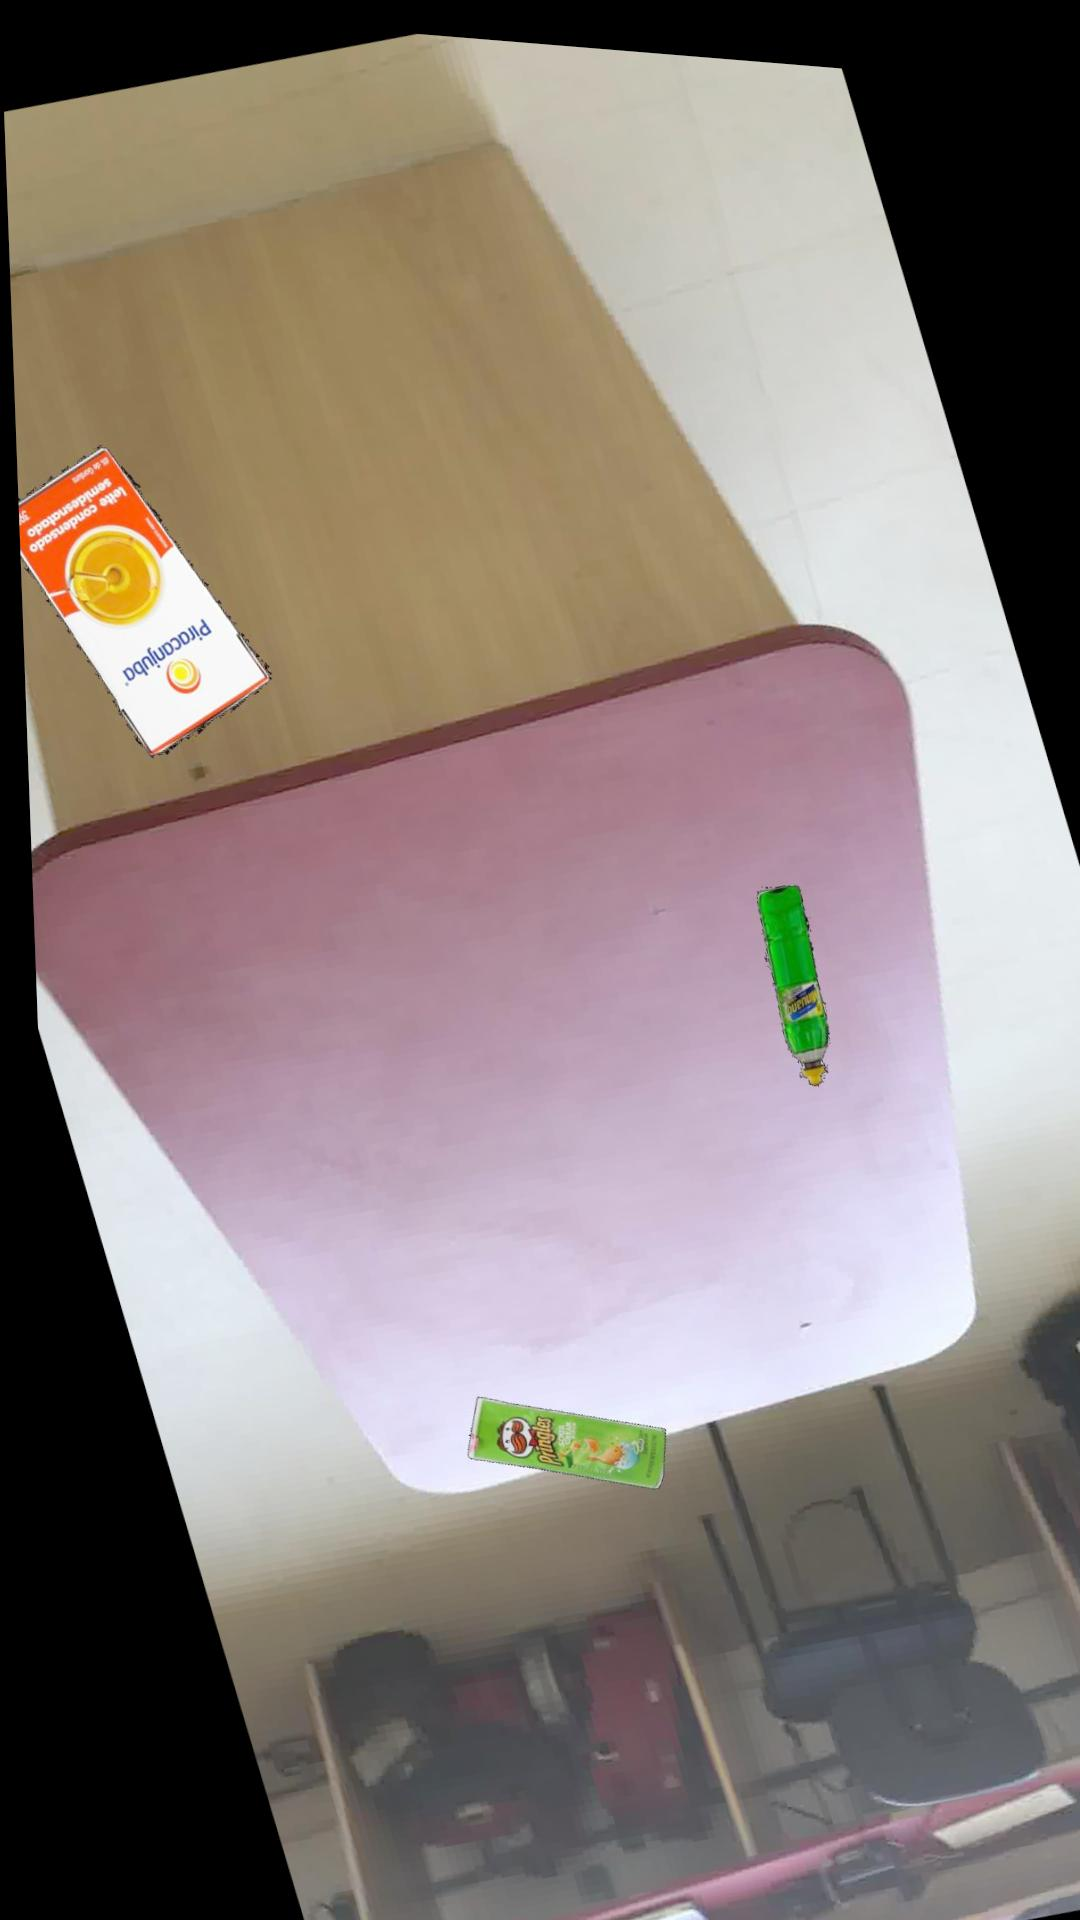cleaner: (748, 873, 820, 1073)
pringles: (454, 1390, 653, 1480)
